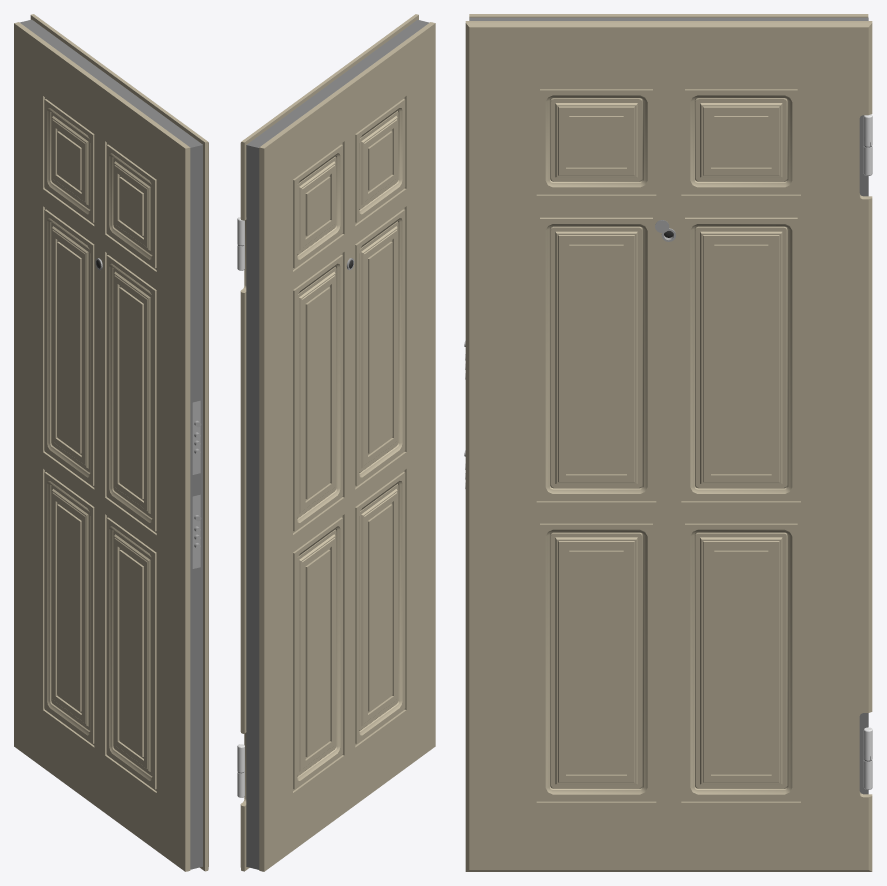
Rendered from 2058_DOOR.glb.
3 renders of one model, left to right at view 1: azimuth 30°, elevation 25°; view 2: azimuth 150°, elevation 25°; view 3: azimuth 270°, elevation 25°, orthographic. The views are drawn at different scales.
Visible parts, largest first — view 1: 2058_DOOR; view 2: 2058_DOOR; view 3: 2058_DOOR.
Boxes of the visible parts, x1,y1,x2,y2 form: 2058_DOOR: (14,14,208,871); 2058_DOOR: (237,14,435,871); 2058_DOOR: (464,14,872,871).
Size of the model in its own units: 0.0852 by 2.07 by 0.9042.
